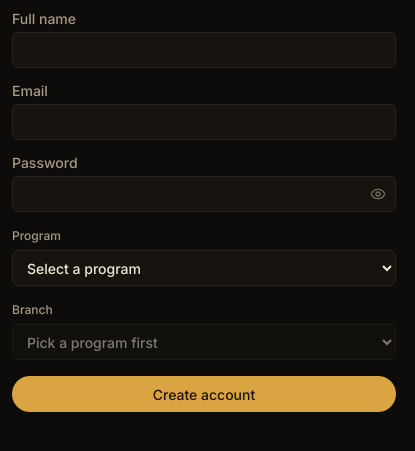
RegisterForm › puts a taken email on the email field rather than in a banner
Type "New Student" into the field labelled "Full name" at (204, 50), box x1=12 y1=32 x2=396 y2=68
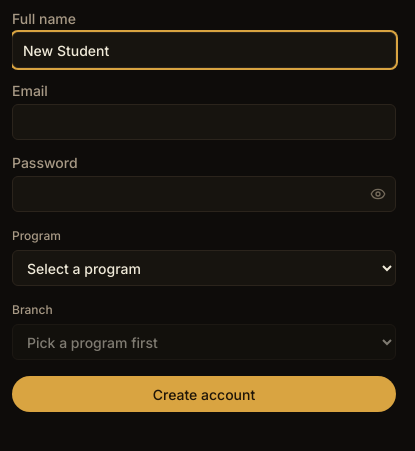
Type "new@test.edu" into the field labelled "Email" at (204, 122), box x1=12 y1=104 x2=396 y2=140
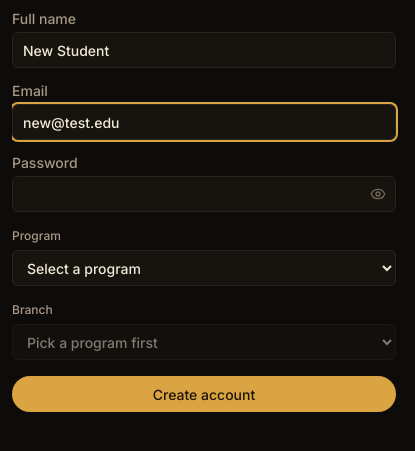
Type "password123" into the password field labelled "Password" at (204, 194), box x1=12 y1=176 x2=396 y2=212
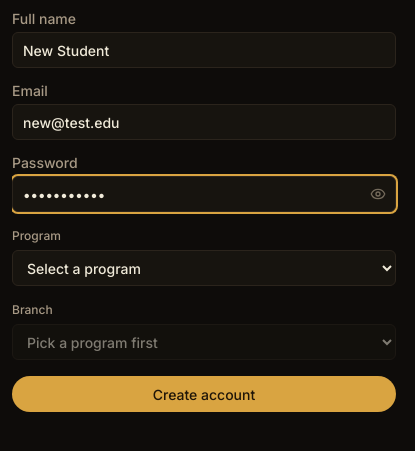
Select "B.Tech" in the dropdown labelled "Program" at (204, 268), box x1=12 y1=250 x2=396 y2=286
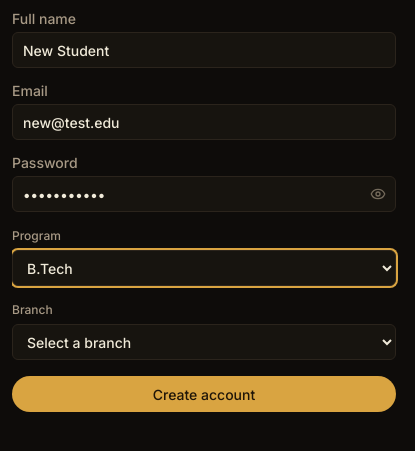
Select "Computer Science" in the dropdown labelled "Branch" at (204, 342), box x1=12 y1=324 x2=396 y2=360
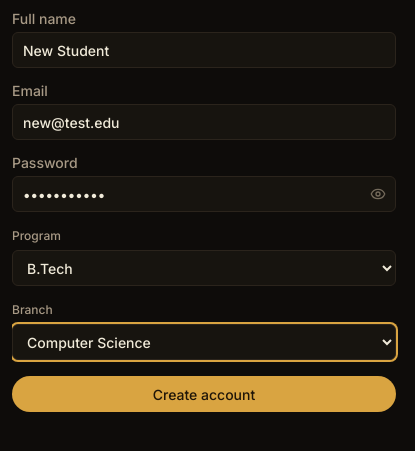
Click the button "Create account" at (204, 394), box x1=12 y1=376 x2=396 y2=412
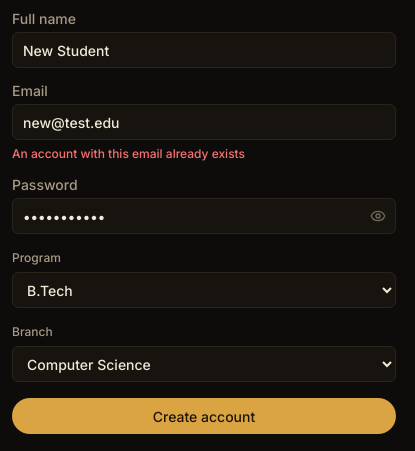
Check: the text "An account with this email already exists" is shown, box x1=12 y1=146 x2=245 y2=161
